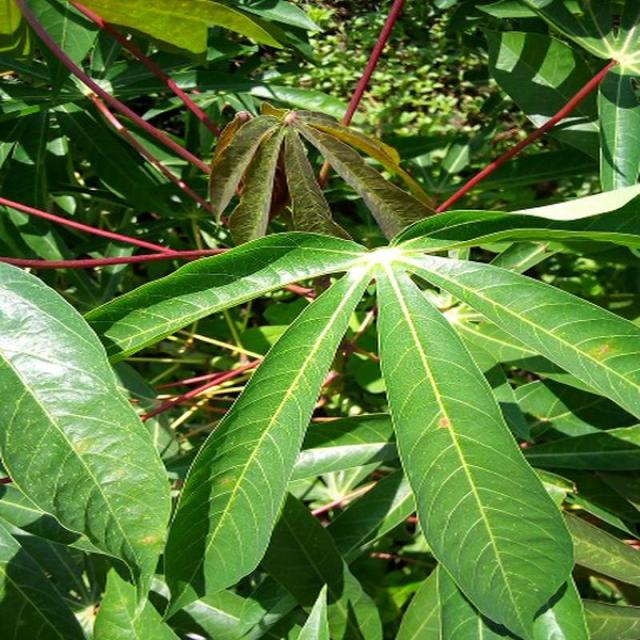cassava leaf: (374, 259, 575, 637), (162, 262, 372, 614), (0, 258, 172, 613)
